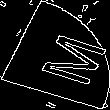M_W: (14, 24, 96, 86)
